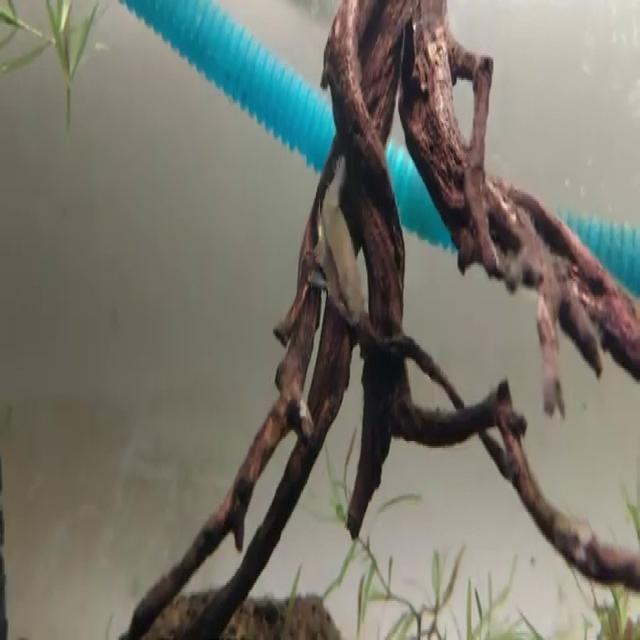Cakil Baligi: (312, 144, 369, 328)
